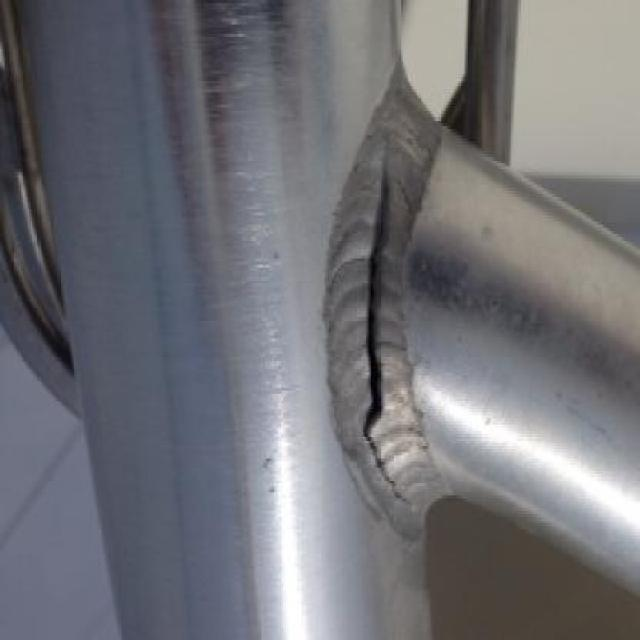crack: (365, 153, 390, 433), (371, 439, 411, 505)
